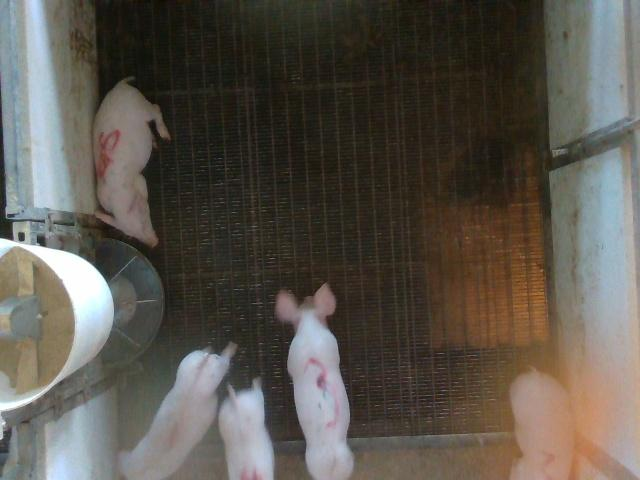pig-1: (119, 342, 236, 479)
pig-2: (510, 368, 575, 478)
pig-3: (275, 284, 354, 479)
pig-5: (94, 76, 170, 247)
